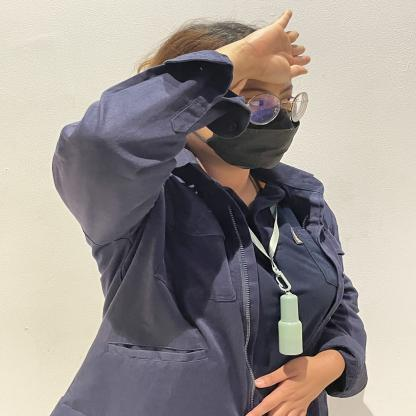Sick: (118, 5, 364, 105)
